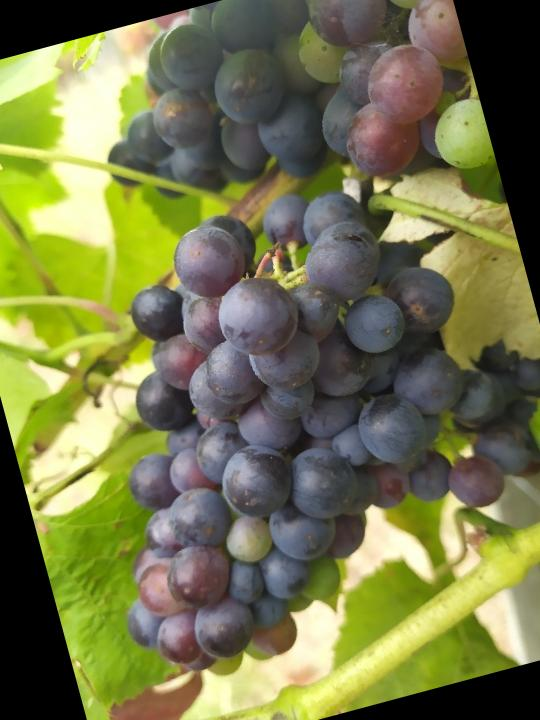grape: (31, 155, 539, 700)
